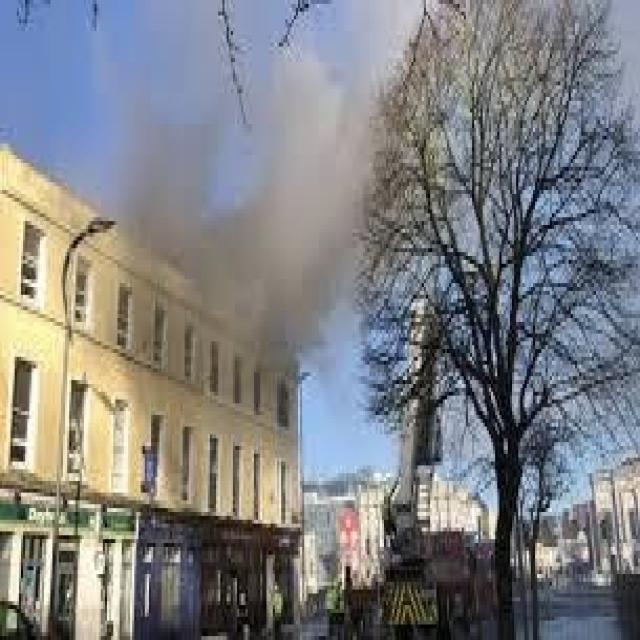Smoke: (148, 43, 372, 351)
